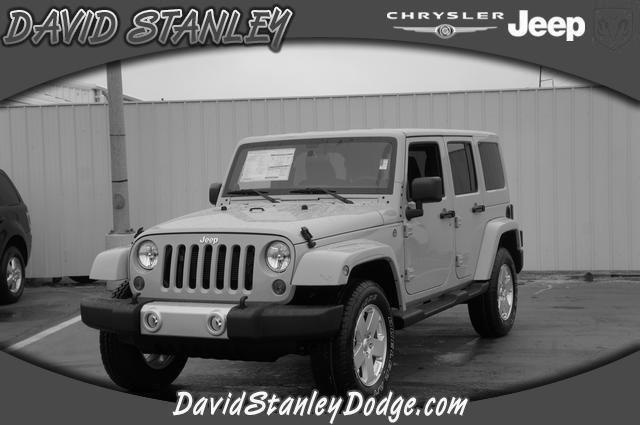car: (78, 126, 529, 408)
